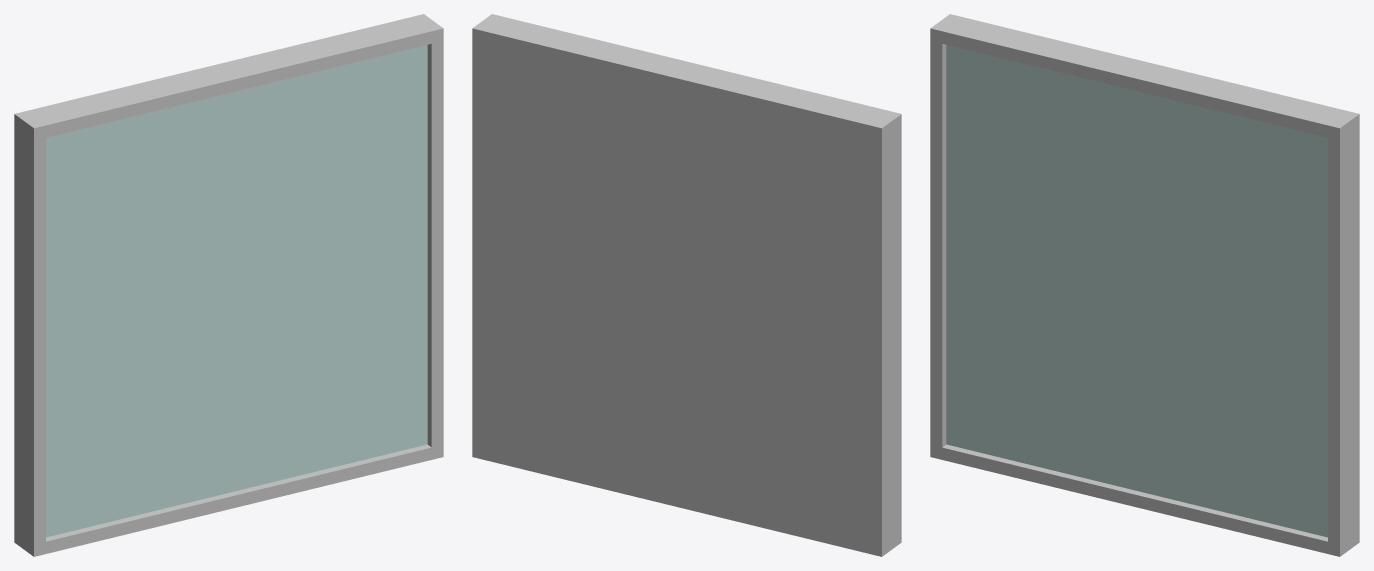
File: Mirror_01_C1.fbx
3 views of the same model, side by side, from view 1: azimuth 30°, elevation 25°; view 2: azimuth 150°, elevation 25°; view 3: azimuth 330°, elevation 25° (orthographic).
Parts seen in each view (by area): view 1: Mirror_01_C1; view 2: Mirror_01_C1; view 3: Mirror_01_C1.
Part boxes in pixels (bbox=[...]): Mirror_01_C1: bbox=[14, 14, 443, 556]; Mirror_01_C1: bbox=[472, 14, 901, 556]; Mirror_01_C1: bbox=[930, 14, 1359, 556].
Bounding box in the file's own units: 0.6 × 0.6 × 0.05.
